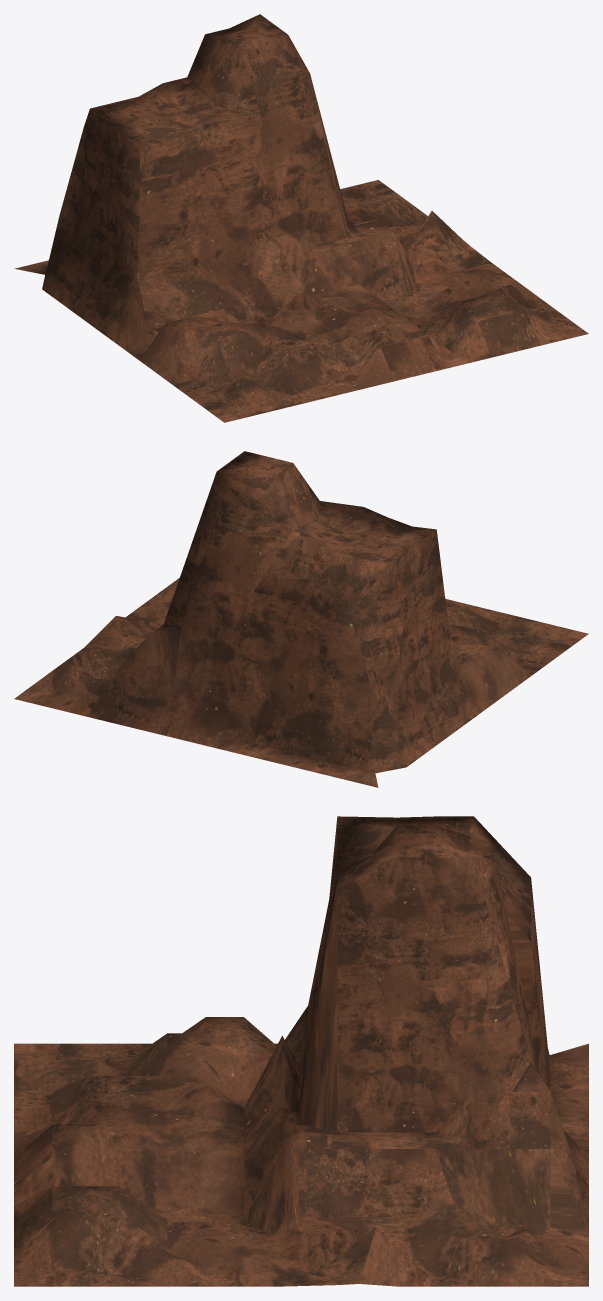
The model's file is SpaceClimbableRock.fbx.
3 renders of one model, top to bottom at view 1: azimuth 30°, elevation 25°; view 2: azimuth 150°, elevation 25°; view 3: azimuth 270°, elevation 25°, orthographic. The views are drawn at different scales.
Visible parts, largest first — view 1: spaceRock; view 2: spaceRock; view 3: spaceRock.
Boxes of the visible parts, x1,y1,x2,y2 form: spaceRock: (14,14,588,422); spaceRock: (14,451,588,787); spaceRock: (14,816,588,1286).
Bounding box in the file's own units: 209 × 129 × 209.
